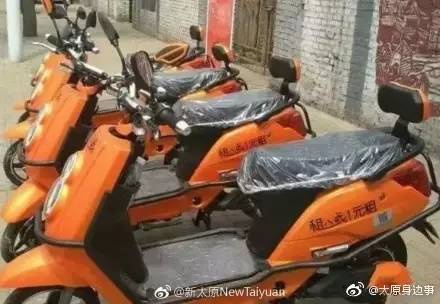non-vehicle: (0, 80, 436, 304), (0, 52, 310, 261)
